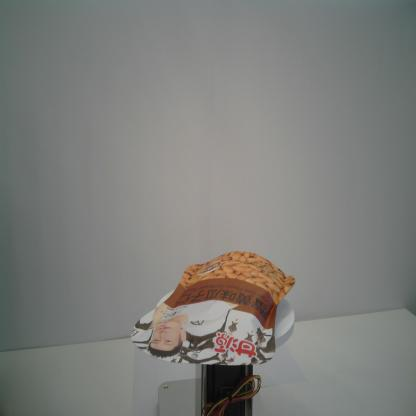Dried Fruit: (129, 250, 296, 368)
